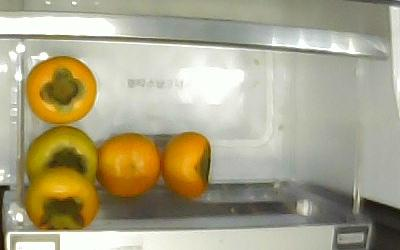persimmon: (25, 54, 97, 125), (22, 165, 99, 229), (93, 130, 161, 196), (24, 124, 97, 185), (159, 130, 211, 197)
